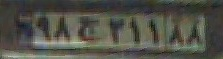character: (74, 14, 104, 45), (51, 13, 73, 45), (106, 15, 127, 47), (145, 13, 164, 47), (33, 13, 53, 44), (126, 15, 144, 48), (185, 18, 205, 47), (166, 19, 185, 46)
